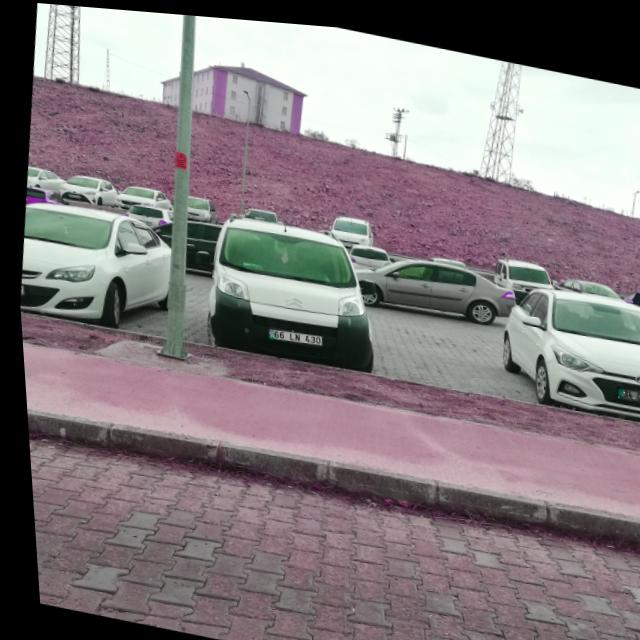license_plate: (264, 321, 318, 344), (610, 376, 640, 395)
